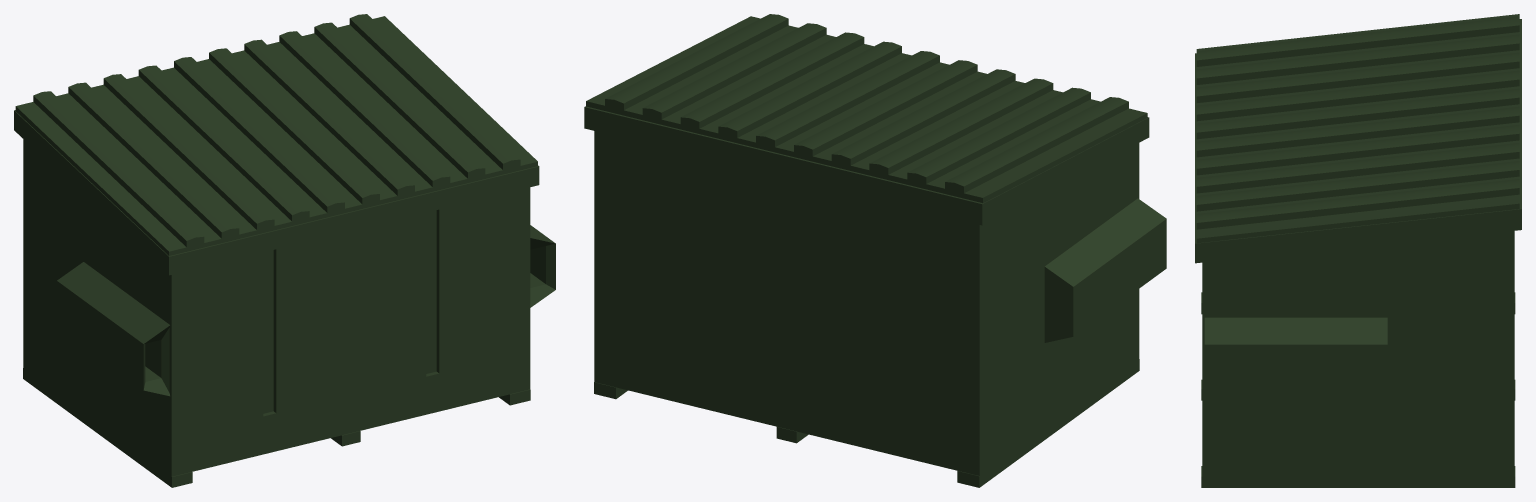
Rendered from Diner_OutsideBigBin.fbx.
3 renders of one model, left to right at view 1: azimuth 30°, elevation 25°; view 2: azimuth 150°, elevation 25°; view 3: azimuth 270°, elevation 25°, orthographic. The views are drawn at different scales.
Visible parts, largest first — view 1: pCube19; view 2: pCube19; view 3: pCube19.
Boxes of the visible parts, bbox=[...] form: pCube19: bbox=[14, 14, 555, 487]; pCube19: bbox=[584, 14, 1166, 487]; pCube19: bbox=[1195, 14, 1521, 487].
Bounding box in the file's own units: 3.51 × 2.28 × 2.29.
